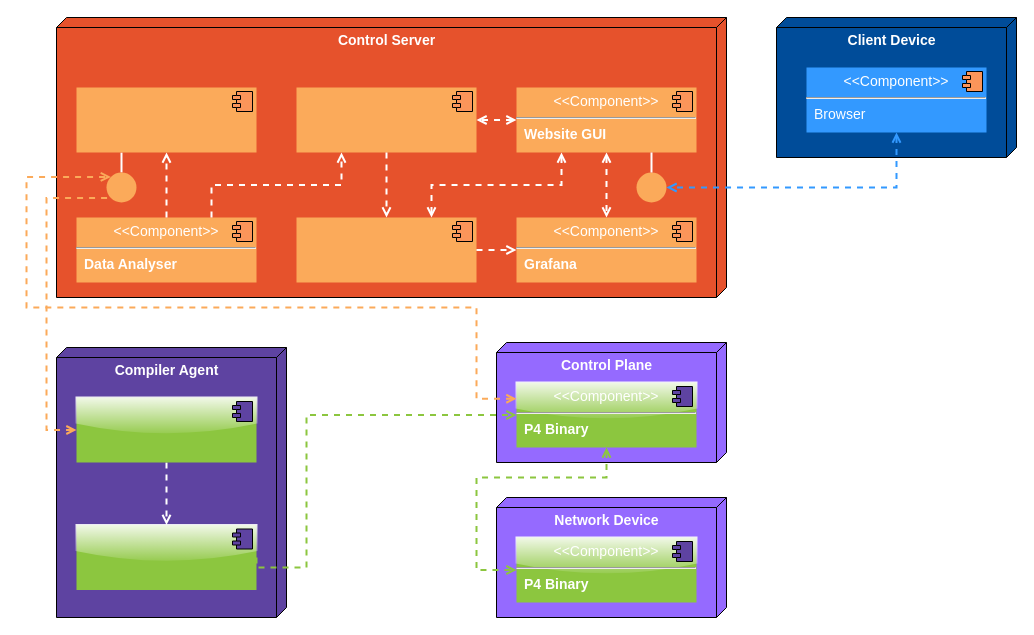
The diagram is 1034 pixels wide and 635 high, and some of its shapes have lost their labels. Here are the shapes that lost their labels. From the top down, the centre of each, then its label:
(166,119): <<Component>> Python Controler
(386,119): <<Component>> Prometheus
(386,249): <<Component>> Grafana Mimir
(166,429): <<Component>> P4 Program
(166,557): <<Component>> P4 Compiler
